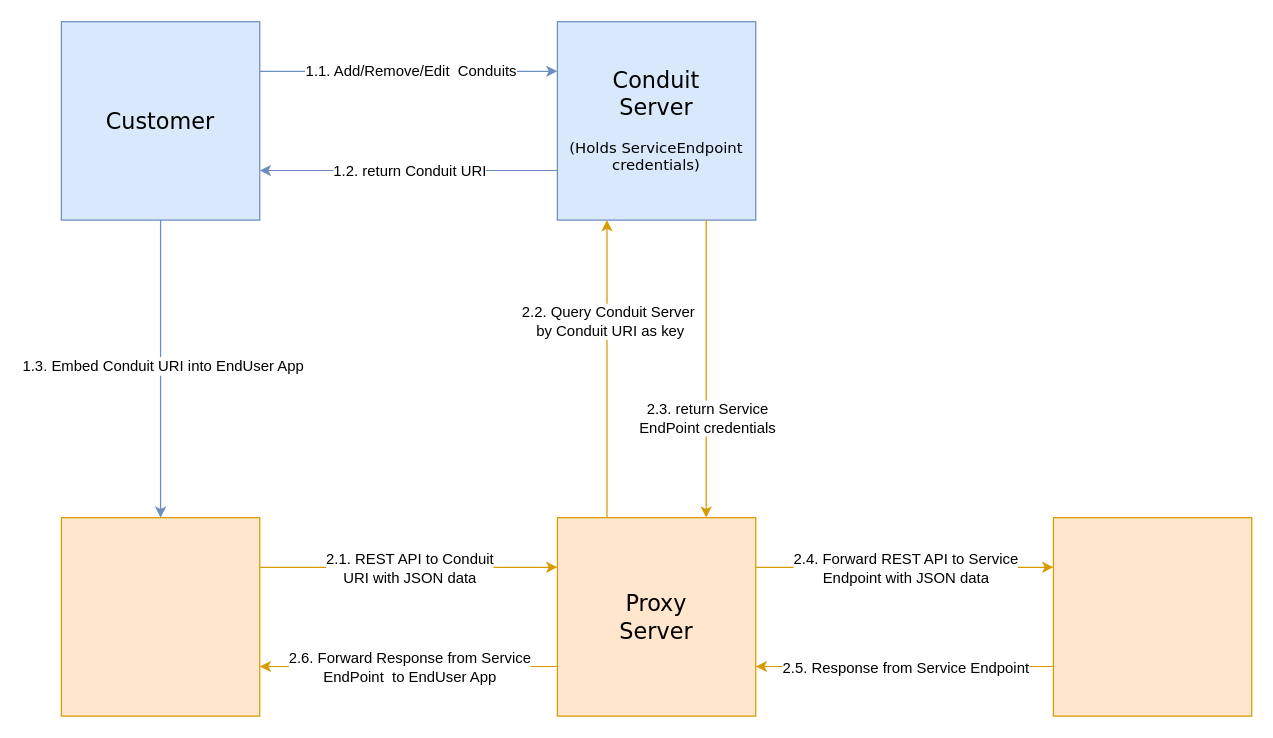
The diagram is 1273 pixels wide and 738 high, and some of its shapes have lost their labels. The shapes that lost their labels are listed below. From the top down, each one's centre as x and y in pixels, then its label:
pixel 160 616: EndUser App
pixel 1152 616: Service EndPoint (AirTable / Google Sheets)
